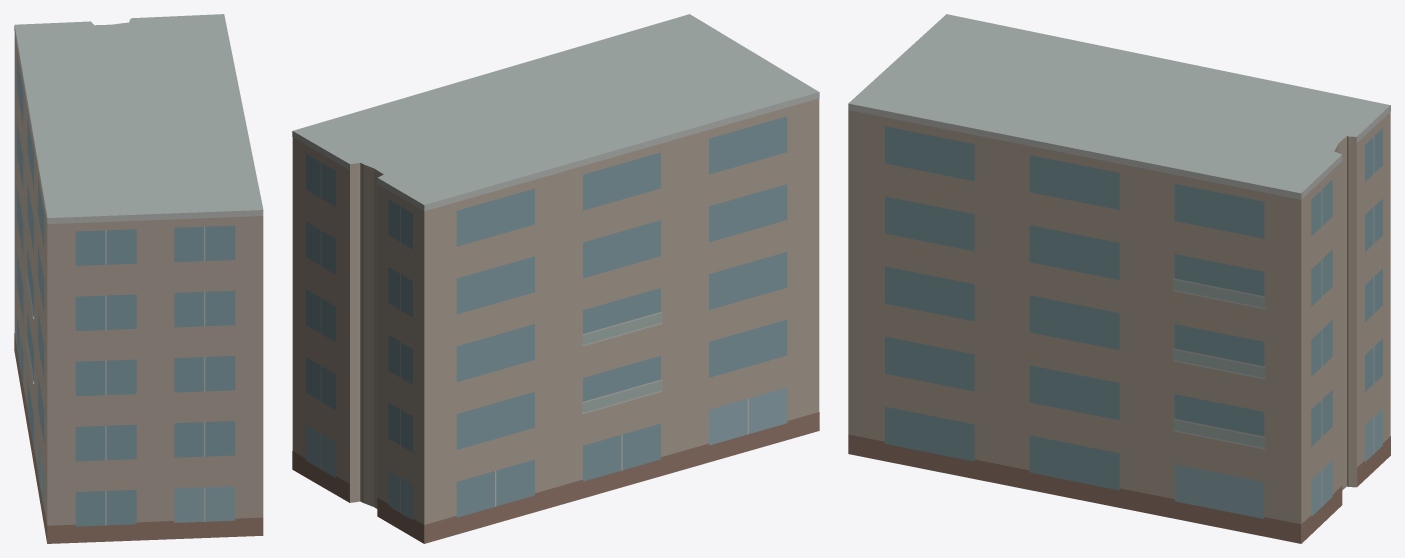
File: survey-upis-32949599.glb
3 renders of one model, left to right at view 1: azimuth 30°, elevation 25°; view 2: azimuth 150°, elevation 25°; view 3: azimuth 270°, elevation 25°, orthographic. The views are drawn at different scales.
Visible parts, largest first — view 1: survey-upis-32949599.tmp; view 2: survey-upis-32949599.tmp; view 3: survey-upis-32949599.tmp.
Boxes of the visible parts, x1,y1,x2,y2 form: survey-upis-32949599.tmp: (14,14,263,543); survey-upis-32949599.tmp: (292,14,819,543); survey-upis-32949599.tmp: (848,14,1390,543).
Size of the model in its own units: 14.56 by 13.25 by 18.6.
